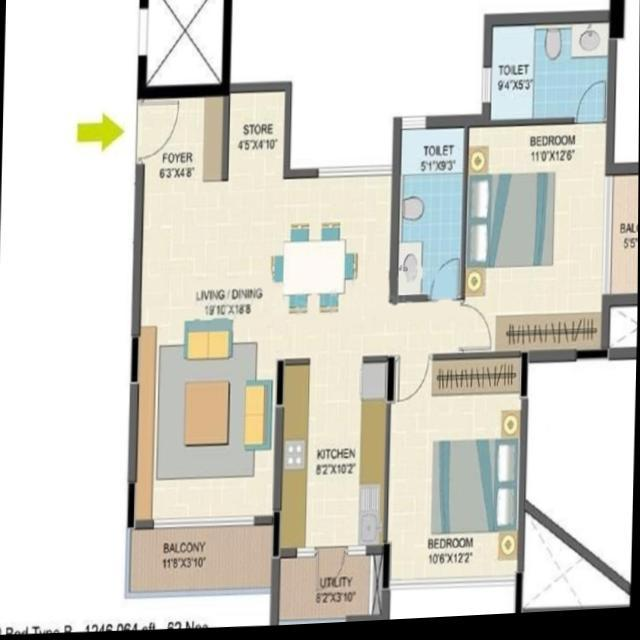Balcony-Sitout: (123, 521, 279, 607), (599, 168, 639, 314)
Bedroom: (385, 353, 529, 592)
Bedroom with Toilet: (461, 15, 617, 361)
Dining: (261, 218, 363, 325)
Enterance-Foyer: (67, 94, 204, 174)
Kitchen: (272, 358, 392, 563)
Living: (125, 313, 286, 531)
Toilet: (482, 16, 618, 136), (389, 119, 470, 311)
Utility: (270, 552, 393, 628)
